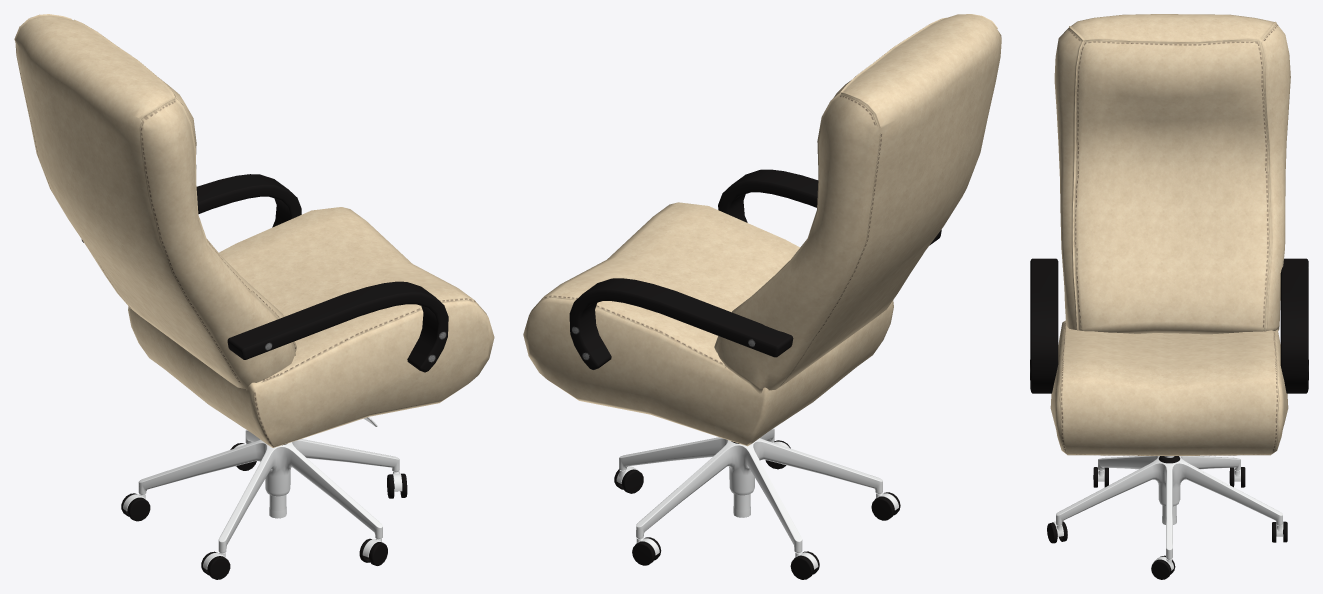
File: SM_ManagerChairLeatherCreamS.fbx
3 views of the same model, side by side, from view 1: azimuth 30°, elevation 25°; view 2: azimuth 150°, elevation 25°; view 3: azimuth 270°, elevation 25° (orthographic). The views are drawn at different scales.
Visible parts, largest first — view 1: SM_ManagerChairLeatherCreamS_LOD0; view 2: SM_ManagerChairLeatherCreamS_LOD0; view 3: SM_ManagerChairLeatherCreamS_LOD0.
Part boxes in pixels (x1,y1,x2,y2): SM_ManagerChairLeatherCreamS_LOD0: [14, 14, 494, 579]; SM_ManagerChairLeatherCreamS_LOD0: [523, 14, 1001, 579]; SM_ManagerChairLeatherCreamS_LOD0: [1030, 14, 1308, 579].
Bounding box in the file's own units: 104 × 80.56 × 139.
1 material, 1 textured.
